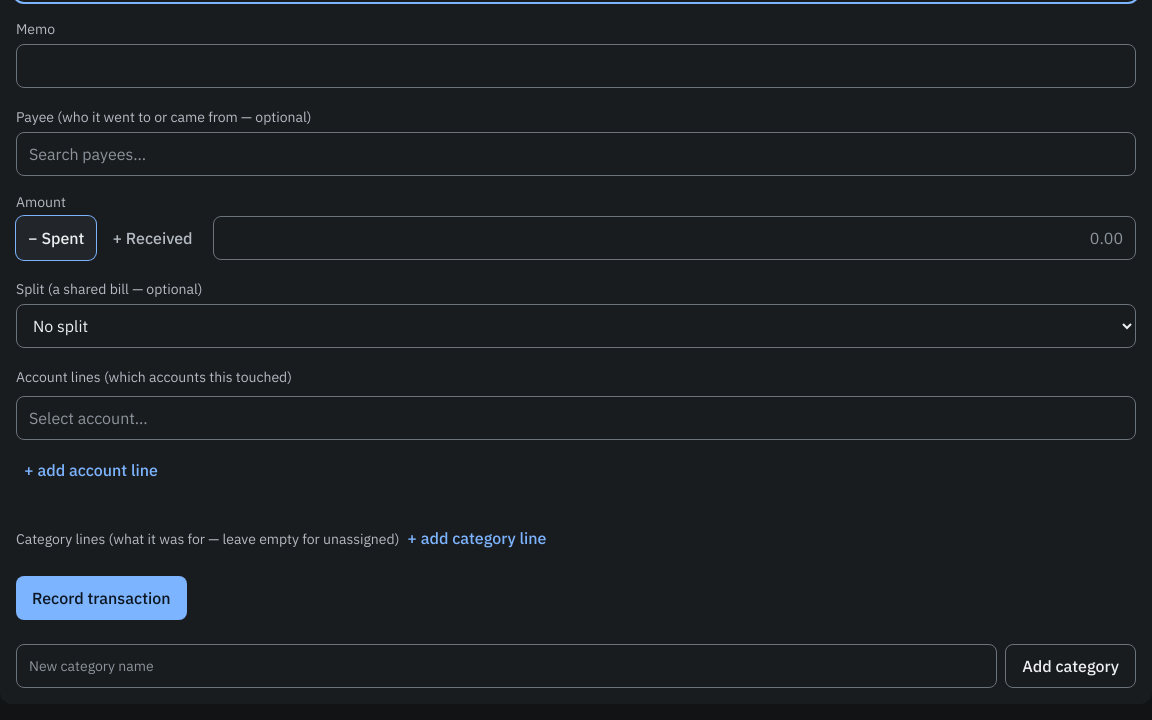
Ledger form: which bill and due date a payment paid › picking a different date from the list links that date instead
This screenshot has width=1152, height=720.
(page scrolled)
Click the button "+ add category line": (477, 538) [399,516,554,560]
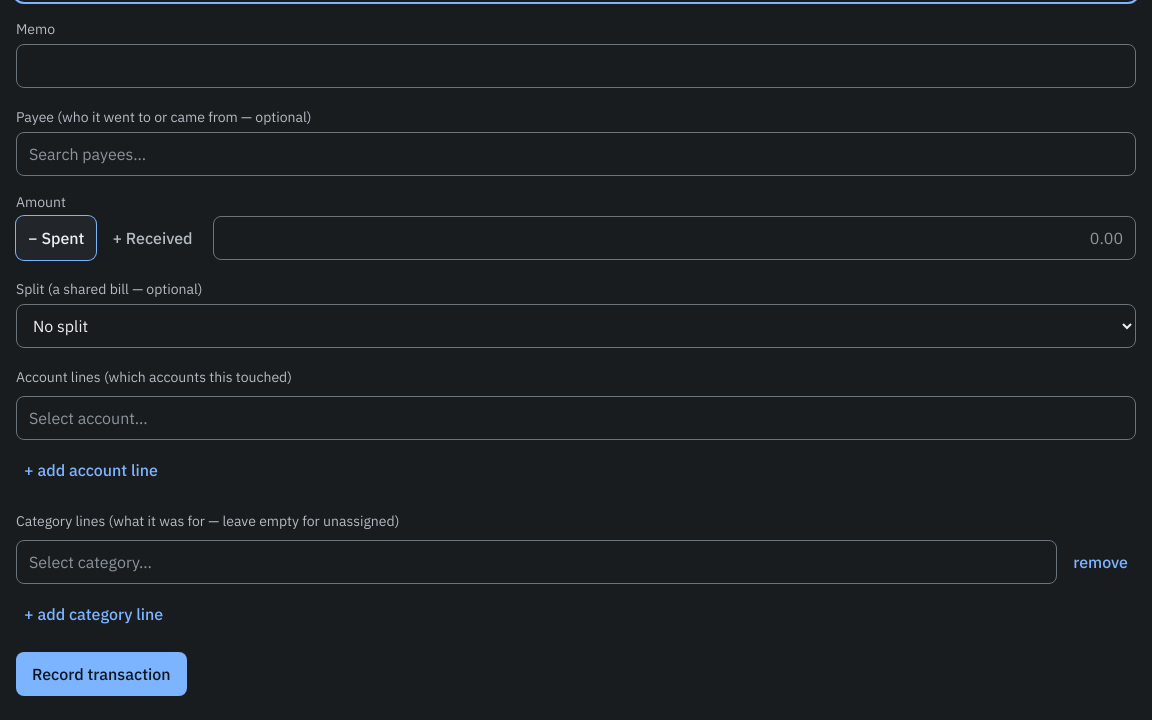
In the field labelled "category": (537, 562) [16,540,1057,584], type "Rent"
(page scrolled)
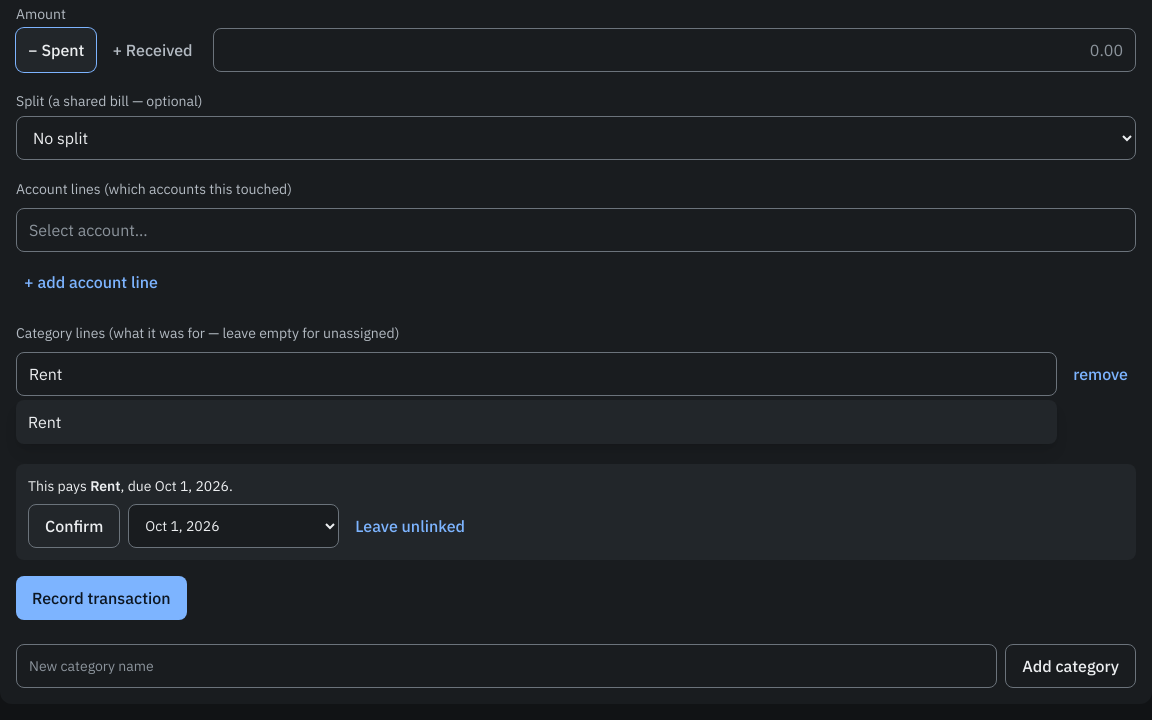
Select "Nov 1, 2026" in the dropdown named "Which due date": (234, 526) [128,504,339,548]
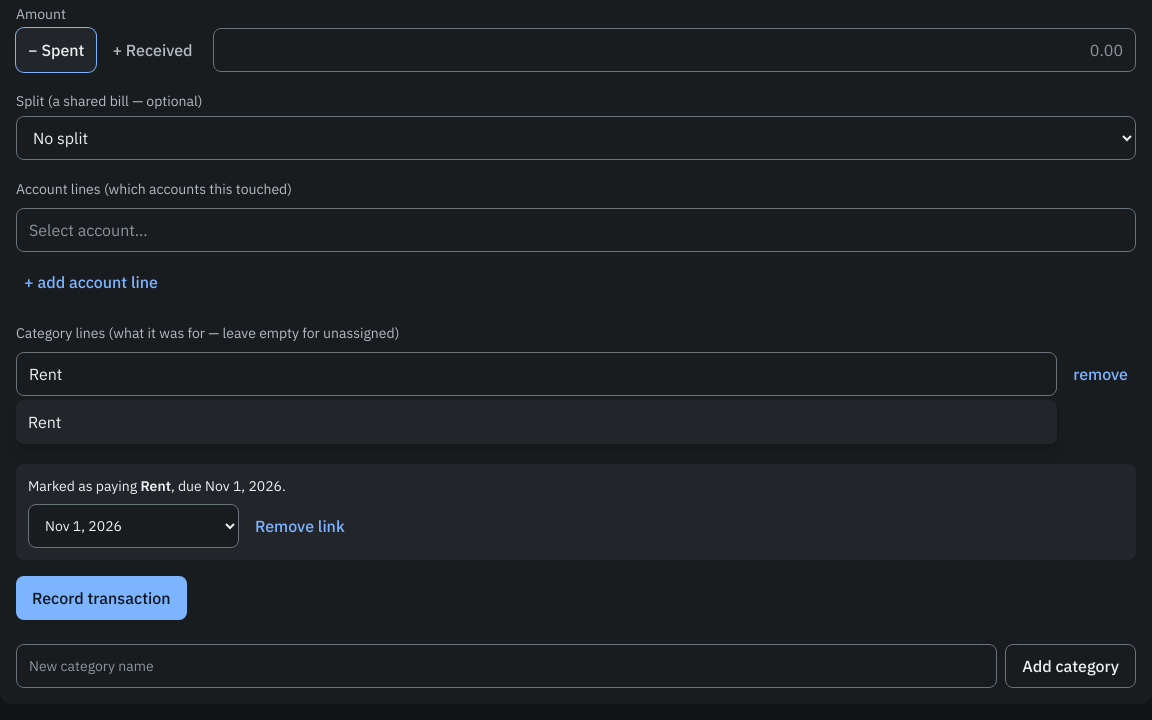
Check: the text "Marked as paying Rent, due Nov 1, 2026." is shown, box [28,477,286,495]
